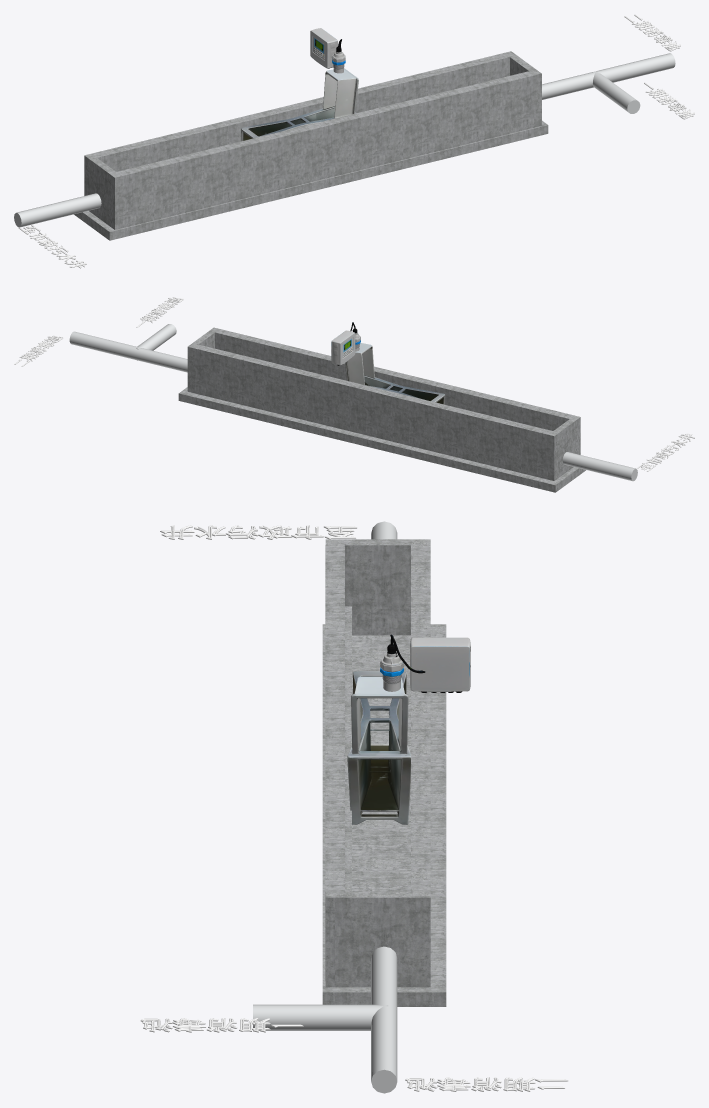
Rendered from 巴氏计量槽1.glb.
3 views of the same model, one above another, from view 1: azimuth 30°, elevation 25°; view 2: azimuth 150°, elevation 25°; view 3: azimuth 270°, elevation 25° (orthographic). The views are drawn at different scales.
Visible parts, largest first — view 1: Rectangle001, Line005, 计量槽, Text001, node_0; view 2: Rectangle001, Line005, 计量槽, Text001, node_0; view 3: Rectangle001, 计量槽, Line005, Text001, node_0.
Part boxes in pixels (x1,y1,x2,y2): Rectangle001: (74, 51, 548, 240); Line005: (14, 53, 675, 227); 计量槽: (241, 68, 358, 141); Text001: (18, 14, 694, 268); node_0: (310, 28, 345, 73); Rectangle001: (178, 327, 585, 492); Line005: (69, 324, 637, 481); 计量槽: (345, 343, 444, 404); Text001: (14, 297, 694, 471); node_0: (331, 322, 360, 365); Rectangle001: (322, 539, 446, 1006); 计量槽: (347, 671, 410, 824); Line005: (253, 521, 397, 1093); Text001: (140, 525, 568, 1091); node_0: (380, 634, 470, 692).
Bounding box in the file's own units: 206 × 36.15 × 64.99.
5 materials, 3 textured.
